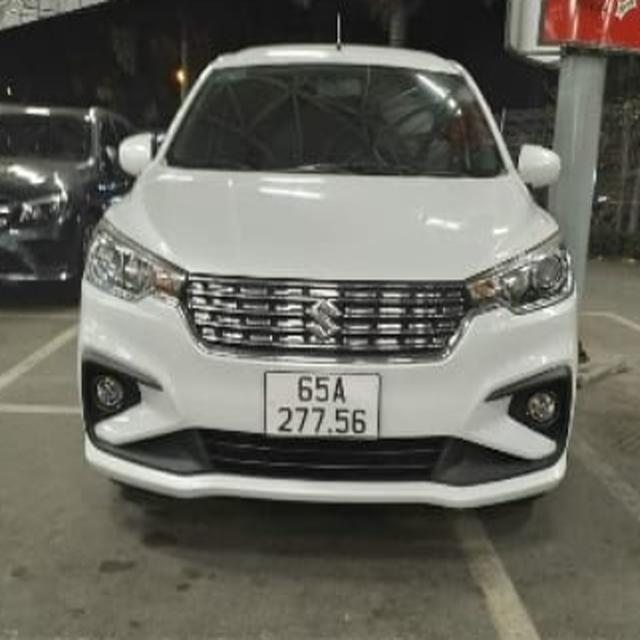car: (56, 33, 611, 525)
plate: (253, 362, 393, 445)
